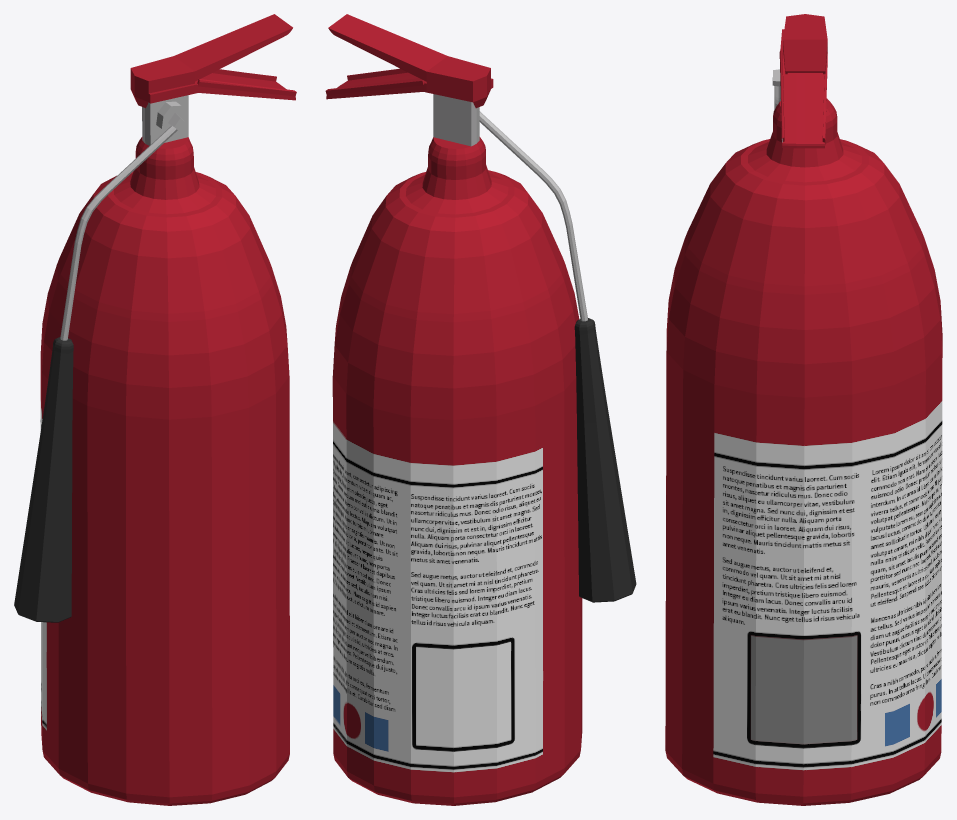
The model's file is Extintor.FBX.
3 views of the same model, side by side, from view 1: azimuth 30°, elevation 25°; view 2: azimuth 150°, elevation 25°; view 3: azimuth 270°, elevation 25° (orthographic). The views are drawn at different scales.
Parts seen in each view (by area): view 1: OBJ_Extintor; view 2: OBJ_Extintor; view 3: OBJ_Extintor.
Boxes of the visible parts, x1,y1,x2,y2 form: OBJ_Extintor: (14, 14, 296, 805); OBJ_Extintor: (325, 14, 636, 805); OBJ_Extintor: (665, 14, 942, 805).
Bounding box in the file's own units: 9.74 × 23.17 × 7.81.
